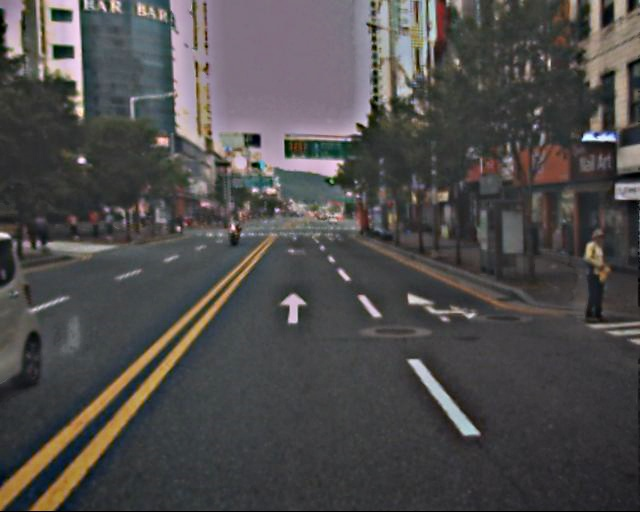person: (568, 229, 617, 327), (31, 209, 125, 241)
